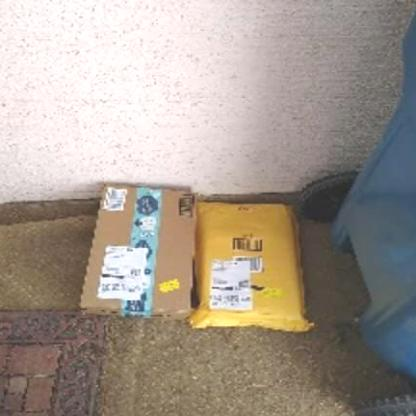box: (76, 179, 196, 322)
envelope: (190, 196, 317, 336)
